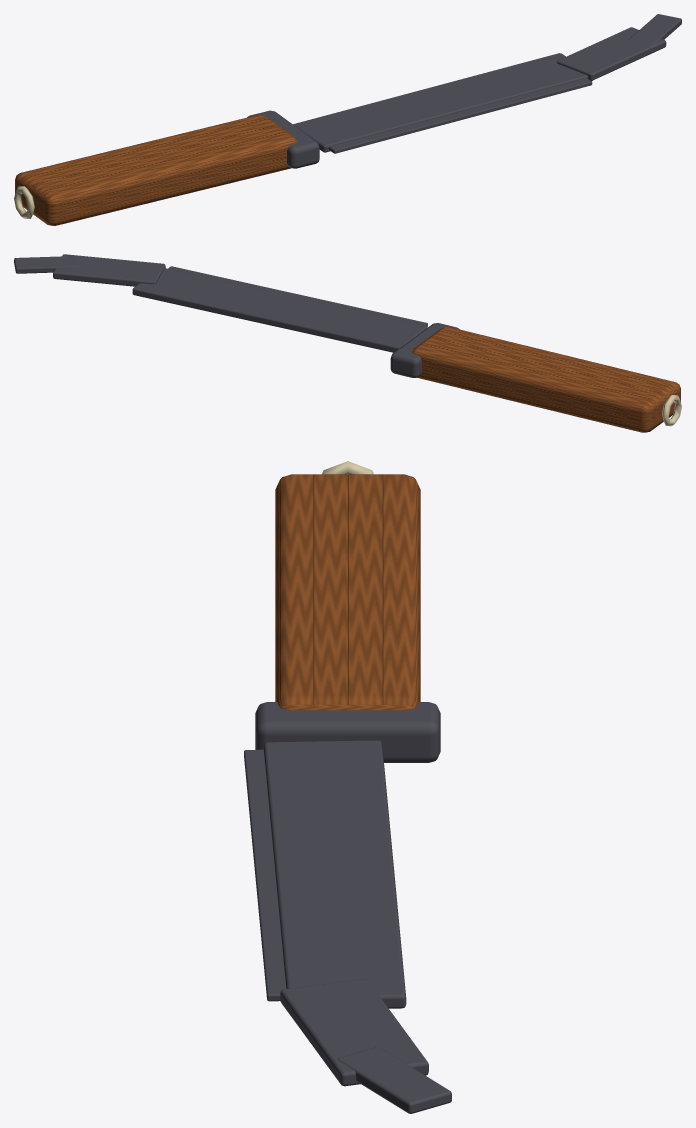
The model's file is jungle-temple-and-stone-city-machete-11b21526__36150.glb.
3 renders of one model, top to bottom at view 1: azimuth 30°, elevation 25°; view 2: azimuth 150°, elevation 25°; view 3: azimuth 270°, elevation 25°, orthographic. The views are drawn at different scales.
Parts seen in each view (by area): view 1: machete; view 2: machete; view 3: machete.
Part boxes in pixels (x1,y1,x2,y2): machete: (14,14,681,225); machete: (14,254,681,432); machete: (244,461,451,1113).
Bounding box in the file's own units: 1.13 × 0.052 × 0.1574.
Materials: 3 (1 with a texture image).
